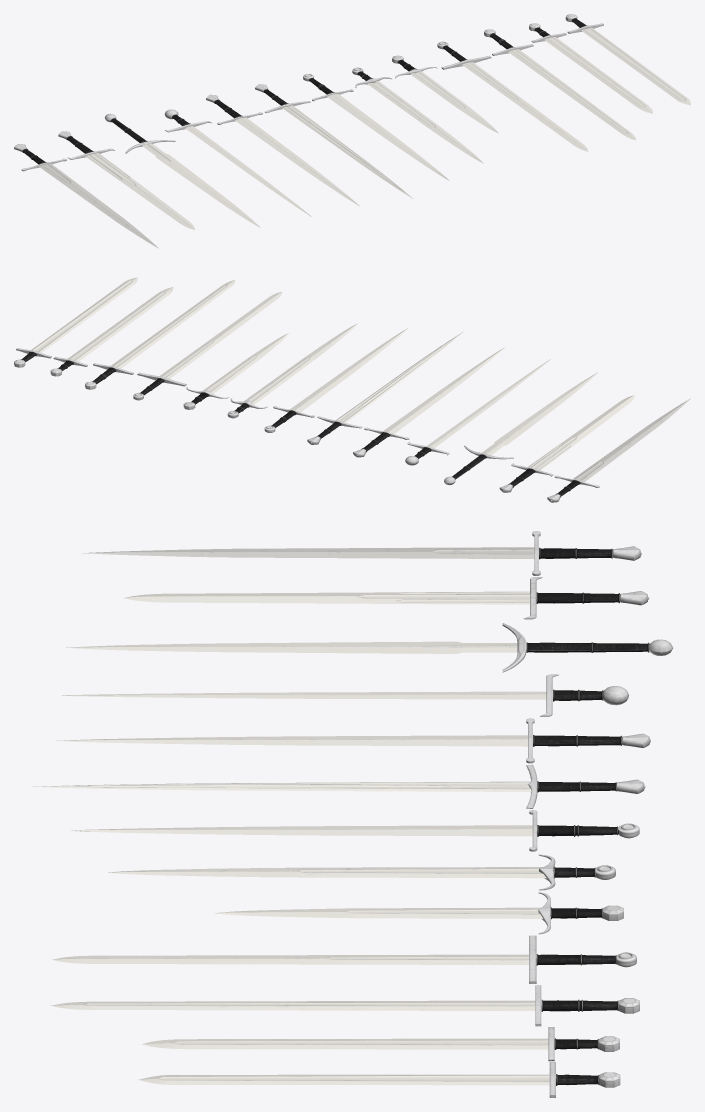
The model's file is Medieval Sword pack 1_0 (Oakeshott Classification) .fbx.
The picture shows the model from 3 angles, top to bottom: view 1: azimuth 30°, elevation 25°; view 2: azimuth 150°, elevation 25°; view 3: azimuth 270°, elevation 25°; orthographic projection. The views are drawn at different scales.
Parts seen in each view (by area): view 1: Type XIIIA, Type XIIA, Type XX, Type XVIIIE, Type XXA, Type XVIIIB, Type X, Type XA, Type XVII, Type XVA, Type XV, Type XVIIID (+1 smaller); view 2: Type XIIIA, Type XIIA, Type XX, Type XVIIIE, Type XXA, Type XVIIIB, Type X, Type XA, Type XVII, Type XVA, Type XV, Type XVIIID (+1 smaller); view 3: Type XVIIIE, Type XIIA, Type XIIIA, Type XX, Type XVIIIB, Type XXA, Type XA, Type X, Type XVA, Type XVII, Type XV, Type XVIIID (+1 smaller).
Boxes of the visible parts, <box> form: Type XIIIA: <box>437,41,588,151</box>; Type XIIA: <box>484,29,635,140</box>; Type XX: <box>58,131,194,229</box>; Type XVIIIE: <box>105,113,260,227</box>; Type XXA: <box>14,144,158,248</box>; Type XVIIIB: <box>206,94,359,205</box>; Type X: <box>565,14,690,105</box>; Type XA: <box>529,23,652,113</box>; Type XVII: <box>255,84,412,198</box>; Type XVA: <box>303,74,449,180</box>; Type XV: <box>352,67,483,163</box>; Type XVIIID: <box>164,109,311,216</box>; Type XIIIA: <box>133,291,281,400</box>; Type XIIA: <box>85,280,235,389</box>; Type XX: <box>499,395,634,492</box>; Type XVIIIE: <box>444,372,597,485</box>; Type XXA: <box>547,398,690,502</box>; Type XVIIIB: <box>353,347,504,457</box>; Type X: <box>14,277,137,367</box>; Type XA: <box>50,287,173,376</box>; Type XVII: <box>307,332,462,444</box>; Type XVA: <box>264,328,408,432</box>; Type XV: <box>227,323,357,418</box>; Type XVIIID: <box>405,359,550,465</box>; Type XVIIIE: <box>66,623,673,672</box>; Type XIIA: <box>51,985,639,1026</box>; Type XIIIA: <box>52,935,636,983</box>; Type XX: <box>124,577,649,619</box>; Type XVIIIB: <box>57,718,650,763</box>; Type XXA: <box>82,531,641,575</box>; Type XA: <box>142,1027,619,1061</box>; Type X: <box>139,1062,620,1097</box>; Type XVA: <box>71,810,639,851</box>; Type XVII: <box>32,764,645,808</box>; Type XV: <box>108,854,615,890</box>; Type XVIIID: <box>62,674,628,716</box>.
Bounding box in the file's own units: 4740 × 60.88 × 2275.
